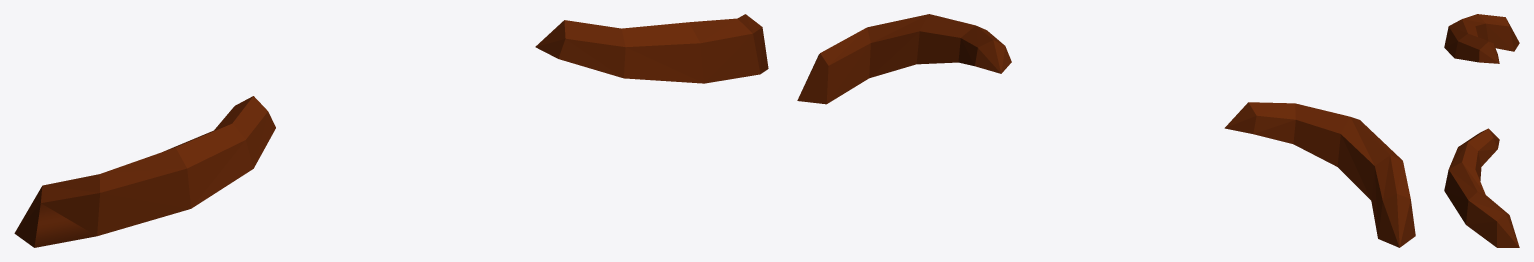
Rendered from Eyes 05.FBX.
The picture shows the model from 3 angles, left to right: view 1: azimuth 30°, elevation 25°; view 2: azimuth 150°, elevation 25°; view 3: azimuth 270°, elevation 25°; orthographic projection. The views are drawn at different scales.
Visible parts, largest first — view 1: Eyes 05; view 2: Eyes 05; view 3: Eyes 05.
Boxes of the visible parts, x1,y1,x2,y2 form: Eyes 05: [14, 14, 768, 247]; Eyes 05: [797, 14, 1415, 247]; Eyes 05: [1444, 14, 1519, 247].
Bounding box in the file's own units: 16.83 × 2.32 × 2.63.
1 material, 1 textured.
